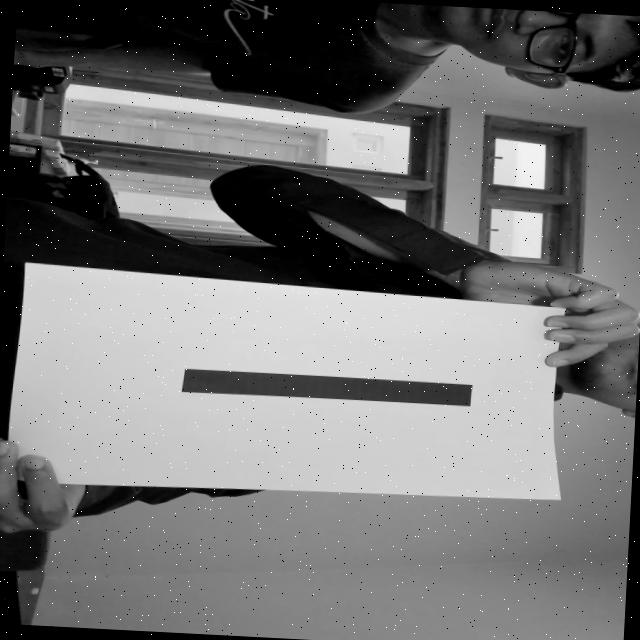i: (152, 350, 480, 430)
